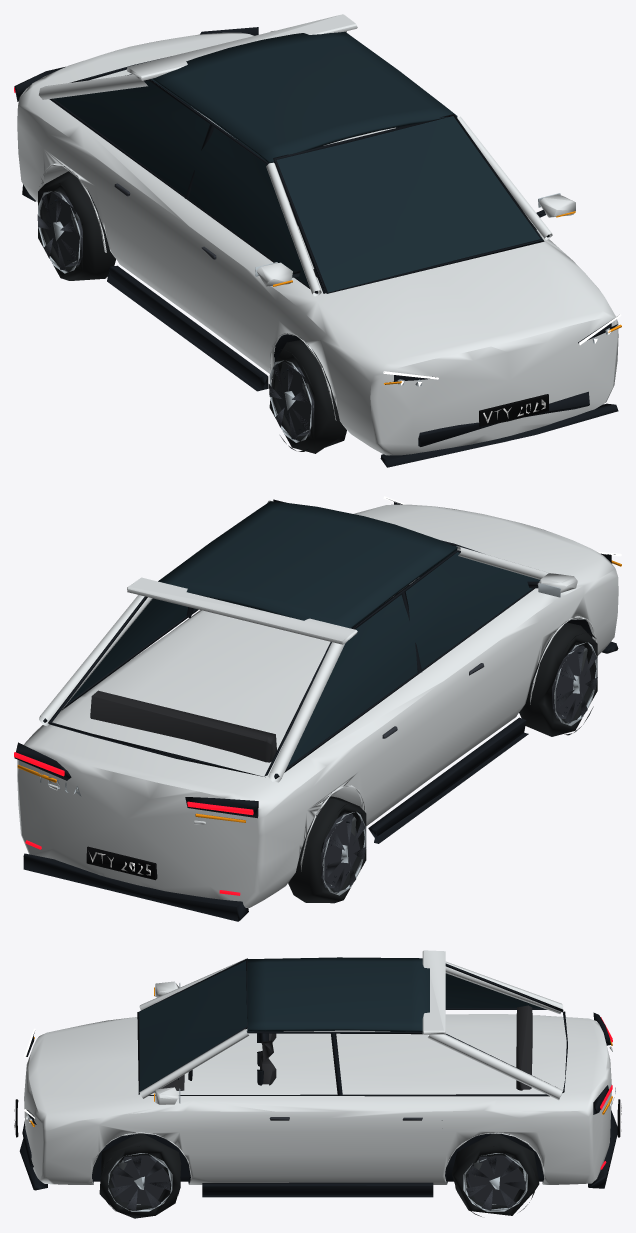
Rendered from model-y-far.glb.
The picture shows the model from 3 angles, top to bottom: view 1: azimuth 30°, elevation 25°; view 2: azimuth 150°, elevation 25°; view 3: azimuth 270°, elevation 25°; orthographic projection. The views are drawn at different scales.
Visible parts, largest first — view 1: chassis.001__Automotive clearcoat, chassis.001__Solar glass, chassis.001__Satin black trim, wheel_FL.001__Tyre rubber, wheel_RL.001__Tyre rubber, wheel_RL.001__Graphite alloy, wheel_FL.001__Graphite alloy, chassis.001__Black registration plate; view 2: chassis.001__Automotive clearcoat, chassis.001__Solar glass, chassis.001__Satin black trim, chassis.001__Charcoal upholstery, wheel_FL.001__Tyre rubber, wheel_RL.001__Tyre rubber, wheel_RL.001__Graphite alloy, wheel_FL.001__Graphite alloy, chassis.001__Black registration plate, chassis.001__Red LED optics; view 3: chassis.001__Automotive clearcoat, chassis.001__Solar glass, chassis.001__Satin black trim, wheel_FR.001__Tyre rubber, wheel_RR.001__Tyre rubber, wheel_FR.001__Graphite alloy, wheel_RR.001__Graphite alloy, chassis.001__Charcoal upholstery, wheel_RR.001__Machined aluminium, wheel_FR.001__Machined aluminium.
Part boxes in pixels (box(x1,y1,x2,y2)): chassis.001__Automotive clearcoat: box(17, 14, 618, 455); chassis.001__Solar glass: box(54, 31, 542, 292); chassis.001__Satin black trim: box(14, 27, 618, 467); wheel_FL.001__Tyre rubber: box(269, 340, 346, 453); wheel_RL.001__Tyre rubber: box(38, 171, 115, 280); wheel_RL.001__Graphite alloy: box(37, 191, 82, 270); wheel_FL.001__Graphite alloy: box(269, 361, 314, 439); chassis.001__Black registration plate: box(479, 394, 548, 426); chassis.001__Automotive clearcoat: box(17, 500, 618, 907); chassis.001__Solar glass: box(67, 501, 540, 774); chassis.001__Satin black trim: box(14, 499, 618, 921); chassis.001__Charcoal upholstery: box(90, 585, 408, 762); wheel_FL.001__Tyre rubber: box(519, 622, 597, 736); wheel_RL.001__Tyre rubber: box(288, 796, 366, 903); wheel_RL.001__Graphite alloy: box(321, 813, 366, 892); wheel_FL.001__Graphite alloy: box(552, 645, 597, 723); chassis.001__Black registration plate: box(86, 846, 157, 880); chassis.001__Red LED optics: box(14, 752, 253, 895); chassis.001__Automotive clearcoat: box(24, 950, 611, 1184); chassis.001__Solar glass: box(139, 957, 542, 1092); chassis.001__Satin black trim: box(19, 958, 617, 1197); wheel_FR.001__Tyre rubber: box(99, 1133, 181, 1218); wheel_RR.001__Tyre rubber: box(452, 1133, 539, 1216); wheel_FR.001__Graphite alloy: box(111, 1155, 170, 1210); wheel_RR.001__Graphite alloy: box(466, 1155, 525, 1210); chassis.001__Charcoal upholstery: box(154, 1005, 532, 1092); wheel_RR.001__Machined aluminium: box(463, 1153, 527, 1211); wheel_FR.001__Machined aluminium: box(108, 1153, 172, 1211).
Bounding box in the file's own units: 2.23 × 1.64 × 4.95.
